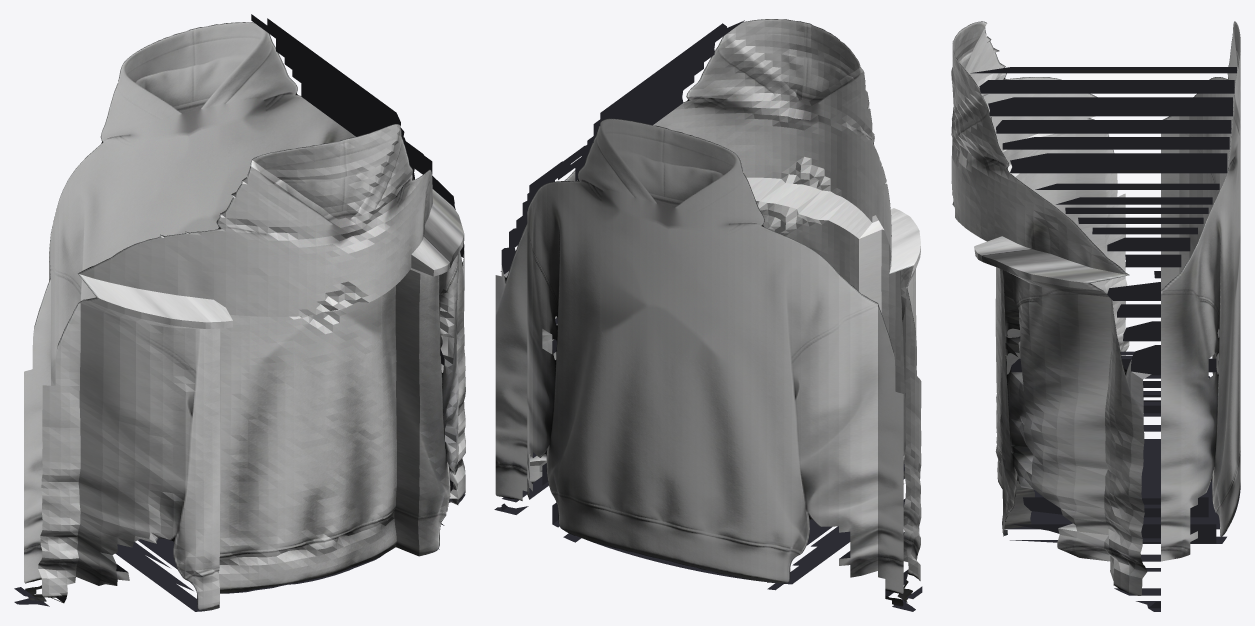
Rendered from streetwear_hoodie.obj.
The picture shows the model from 3 angles, left to right: view 1: azimuth 30°, elevation 25°; view 2: azimuth 150°, elevation 25°; view 3: azimuth 270°, elevation 25°; orthographic projection. The views are drawn at different scales.
Parts seen in each view (by area): view 1: StreetwearHoodie; view 2: StreetwearHoodie; view 3: StreetwearHoodie.
Part boxes in pixels (x1=…): StreetwearHoodie: x1=14, y1=14, x2=465, y2=611; StreetwearHoodie: x1=494, y1=19, x2=922, y2=611; StreetwearHoodie: x1=951, y1=21, x2=1240, y2=611.
Bounding box in the file's own units: 1.17 × 1.24 × 0.6972.
Materials: 3 (2 with a texture image).
